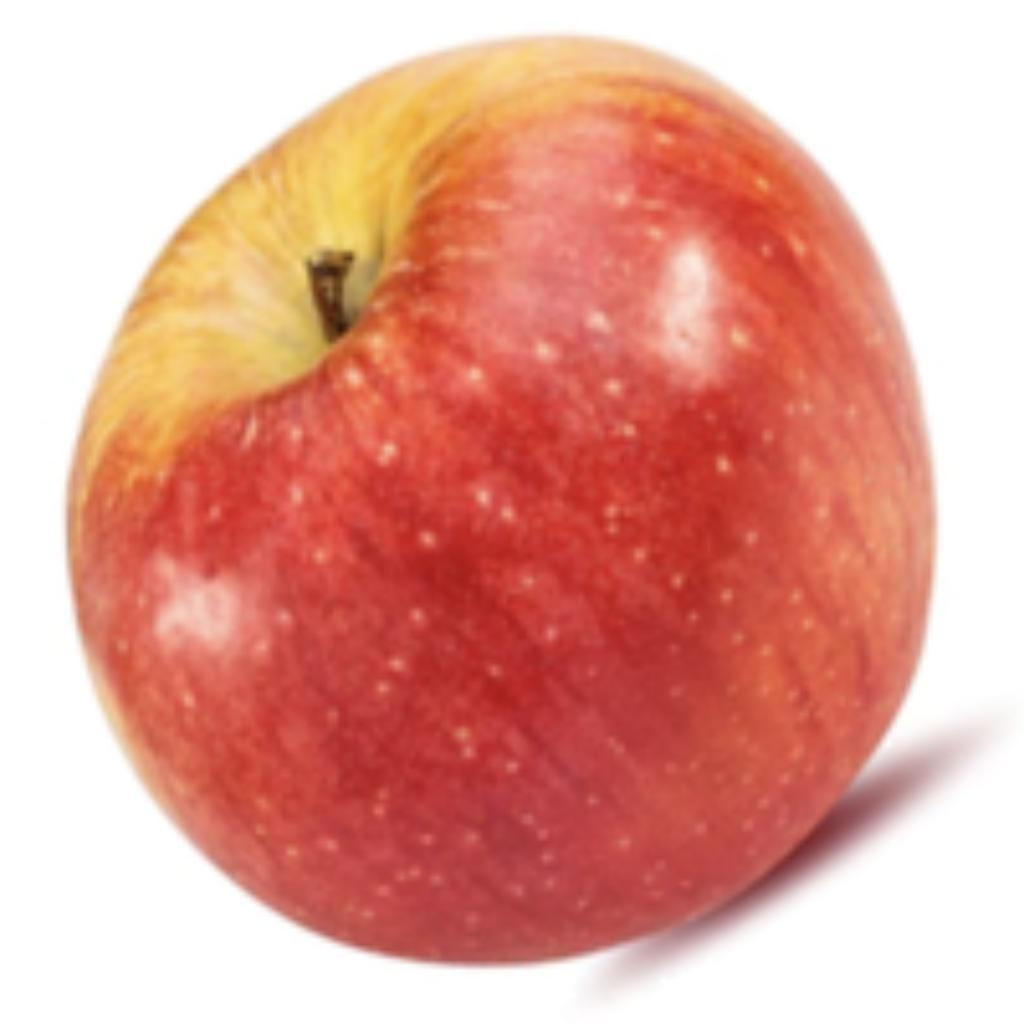apple: (56, 26, 1019, 1009)
